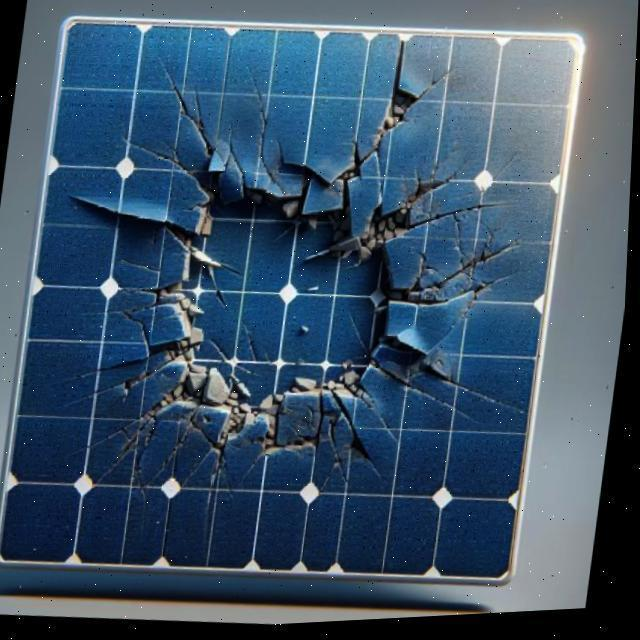Anomaly Solar Panel: (3, 19, 579, 585)
Structural Damage: (123, 134, 437, 477), (396, 193, 532, 323), (133, 402, 245, 551), (61, 358, 187, 434), (361, 158, 451, 259), (119, 119, 225, 200), (69, 414, 168, 495), (373, 360, 487, 429), (162, 51, 223, 163), (418, 274, 529, 332), (247, 61, 290, 202), (430, 368, 536, 420), (336, 389, 388, 485), (89, 285, 162, 346), (413, 200, 515, 237), (69, 191, 170, 227), (325, 414, 362, 498), (374, 88, 423, 145), (413, 58, 462, 106), (56, 367, 104, 386), (381, 416, 409, 448), (123, 256, 166, 275), (395, 42, 409, 91)
